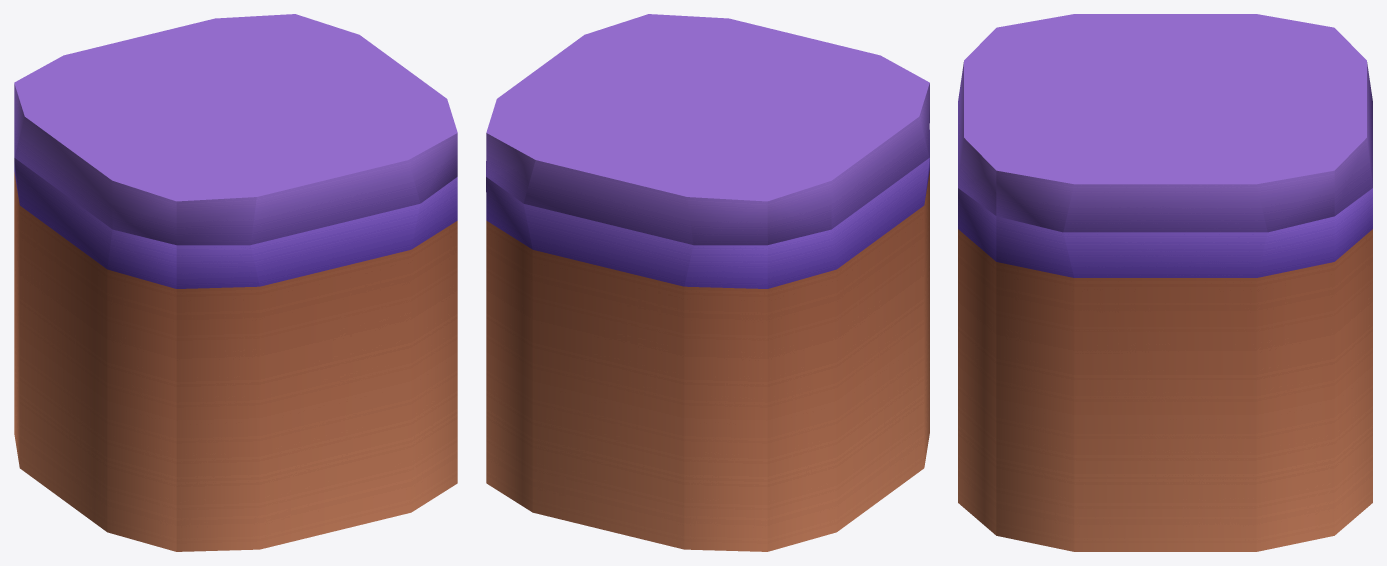
Rendered from bloco de grama 4 cantos.glb.
3 views of the same model, side by side, from view 1: azimuth 30°, elevation 25°; view 2: azimuth 150°, elevation 25°; view 3: azimuth 270°, elevation 25° (orthographic). The views are drawn at different scales.
Visible parts, largest first — view 1: block-grass; view 2: block-grass; view 3: block-grass.
Boxes of the visible parts, x1,y1,x2,y2 form: block-grass: [14, 14, 457, 551]; block-grass: [486, 14, 929, 551]; block-grass: [958, 14, 1372, 551].
Bounding box in the file's own units: 1.03 × 1 × 1.03.
1 material, 1 textured.
